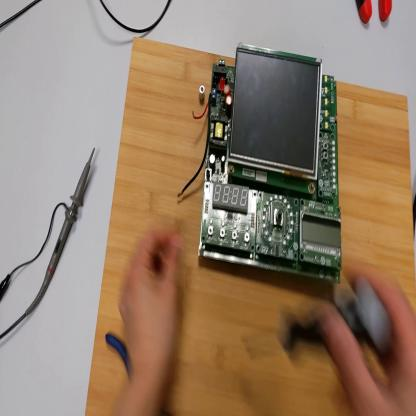hand: (320, 259, 415, 415), (119, 226, 182, 381)
low voltage board: (177, 42, 342, 284)
oscilloscope probe tip: (29, 148, 96, 312)
pliers: (106, 333, 132, 379), (357, 1, 394, 24)
screwdriver-: (243, 289, 394, 361)
working area: (85, 36, 416, 416)
